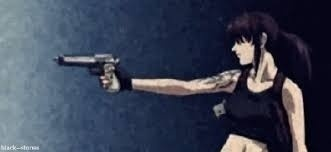pistol: (55, 52, 121, 85)
